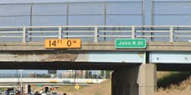0: (65, 39, 72, 47)
1: (47, 38, 52, 47)
4: (51, 38, 57, 48)
overheadsign: (43, 38, 81, 48)
